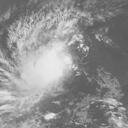cyclone: (0, 2, 86, 114)
